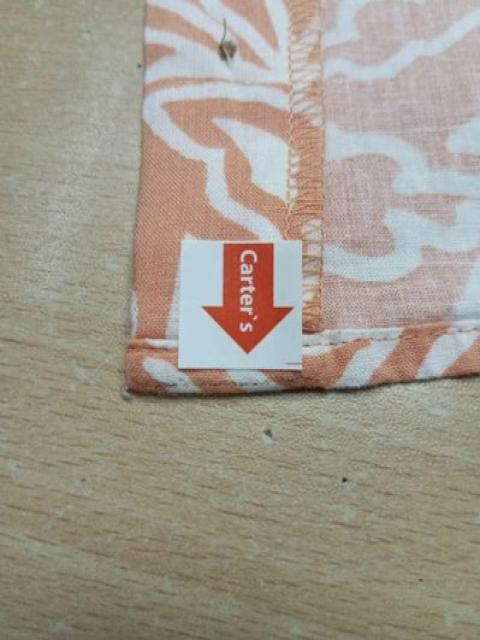Dirty_mark: (138, 376, 323, 387)
